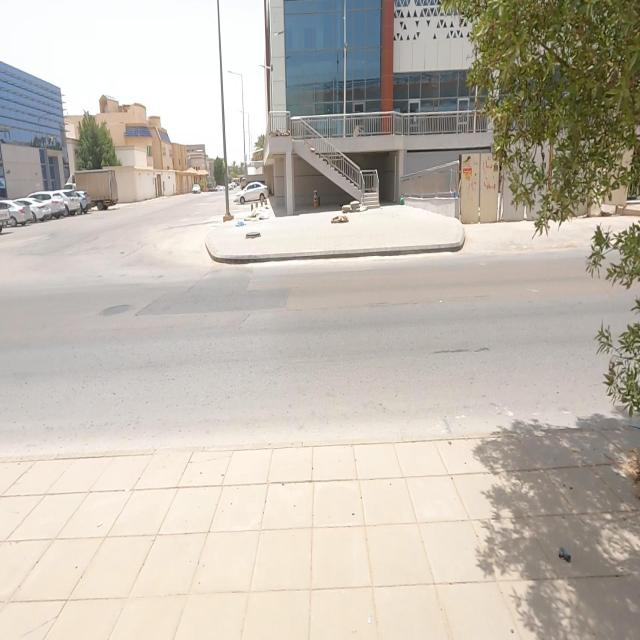Graffiti: (482, 158, 497, 192), (468, 182, 477, 201)
